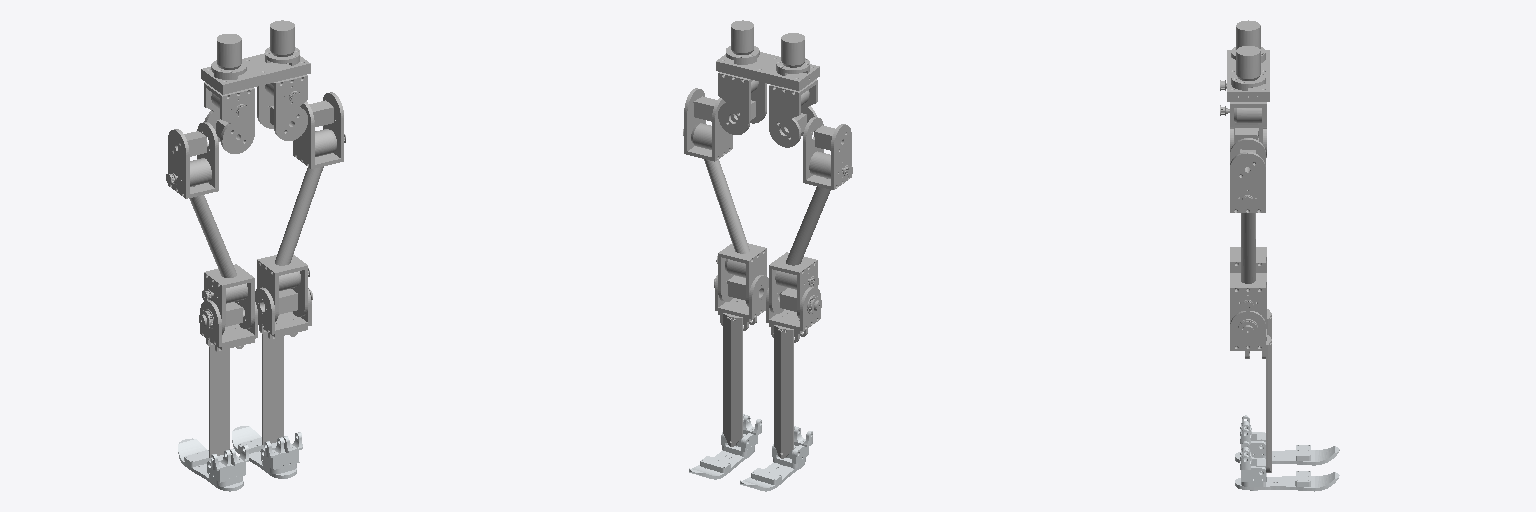
URDF robot description (huron_description_3):
<?xml version="1.0" encoding="utf-8"?>
<!-- This URDF was automatically created by SolidWorks to URDF Exporter! Originally created by [author] ([email redacted]) 
     Commit Version: 1.6.0-4-g7f85cfe  Build Version: 1.6.7995.38578
     For more information, please see http://wiki.ros.org/sw_urdf_exporter -->
<robot
  name="huron_description_3">

  <gazebo>
    <self_collide>1</self_collide>
  </gazebo>

  <link name="base_footprint" />
  <link
    name="base_link">
    <inertial>
      <origin
        xyz="4.7319E-09 5.4338E-07 0.026975"
        rpy="0 0 0" />
      <mass
        value="3.4072" />
      <inertia
        ixx="0.00319"
        ixy="7.149E-11"
        ixz="6.0313E-11"
        iyy="0.010531"
        iyz="6.926E-09"
        izz="0.012315" />
    </inertial>
    <visual>
      <origin
        xyz="0 0 0"
        rpy="0 0 0" />
      <geometry>
        <mesh
          filename="package://huron_description_3/meshes/base_link.STL" />
      </geometry>
      <material
        name="">
        <color
          rgba="0.75294 0.75294 0.75294 1" />
      </material>
    </visual>
    <collision>
      <origin
        xyz="0 0 0"
        rpy="0 0 0" />
      <geometry>
        <mesh
          filename="package://huron_description_3/meshes/base_link.STL" />
      </geometry>
    </collision>
  </link>
  <joint name="base_joint" type="fixed">
    <parent link="base_footprint"/>
    <child link="base_link"/>
    <!-- <origin xyz="0.0 0.0 0.0" rpy="0 0 0"/> -->
    <origin xyz="0.0 0.0 1.3" rpy="0 0 0"/>
  </joint>
  <link
    name="left_upper_thigh">
    <inertial>
      <origin
        xyz="0.00063027 0.00053867 0.081628"
        rpy="0 0 0" />
      <mass
        value="1.6968" />
      <inertia
        ixx="0.0022702"
        ixy="-2.5443E-06"
        ixz="-6.6462E-06"
        iyy="0.0026746"
        iyz="-4.6965E-08"
        izz="0.001238" />
    </inertial>
    <visual>
      <origin
        xyz="0 0 0"
        rpy="0 0 0" />
      <geometry>
        <mesh
          filename="package://huron_description_3/meshes/left_upper_thigh.STL" />
      </geometry>
      <material
        name="">
        <color
          rgba="0.75294 0.75294 0.75294 1" />
      </material>
    </visual>
    <collision>
      <origin
        xyz="0 0 0"
        rpy="0 0 0" />
      <geometry>
        <mesh
          filename="package://huron_description_3/meshes/left_upper_thigh.STL" />
      </geometry>
    </collision>
  </link>
  <joint
    name="hip_2_left_upper_thigh"
    type="revolute">
    <origin
      xyz="-0.0775 0 0"
      rpy="3.1416 0 0" />
    <parent
      link="base_link" />
    <child
      link="left_upper_thigh" />
    <axis
      xyz="0 0 1" />
    <limit
      lower="-3.14159"
      upper="3.14159"
      effort="0"
      velocity="0" />
  </joint>
  <link
    name="left_middle_thigh">
    <inertial>
      <origin
        xyz="-0.071962 -0.0061153 -6.8323E-05"
        rpy="0 0 0" />
      <mass
        value="1.1884" />
      <inertia
        ixx="0.00098222"
        ixy="-9.8651E-08"
        ixz="-3.7349E-07"
        iyy="0.00097045"
        iyz="9.7904E-08"
        izz="0.00092365" />
    </inertial>
    <visual>
      <origin
        xyz="0 0 0"
        rpy="0 0 0" />
      <geometry>
        <mesh
          filename="package://huron_description_3/meshes/left_middle_thigh.STL" />
      </geometry>
      <material
        name="">
        <color
          rgba="0.75294 0.75294 0.75294 1" />
      </material>
    </visual>
    <collision>
      <origin
        xyz="0 0 0"
        rpy="0 0 0" />
      <geometry>
        <mesh
          filename="package://huron_description_3/meshes/left_middle_thigh.STL" />
      </geometry>
    </collision>
  </link>
  <joint
    name="left_thigh_roll"
    type="revolute">
    <origin
      xyz="0 0 0.14512"
      rpy="1.5708 0 0" />
    <parent
      link="left_upper_thigh" />
    <child
      link="left_middle_thigh" />
    <axis
      xyz="-0.0062919 0 -0.99998" />
    <limit
      lower="-3.14159"
      upper="3.14159"
      effort="0"
      velocity="0" />
  </joint>
  <link
    name="left_lower_thigh">
    <inertial>
      <origin
        xyz="-0.26603 -0.00028821 -0.053151"
        rpy="0 0 0" />
      <mass
        value="4.2544" />
      <inertia
        ixx="0.0034527"
        ixy="1.2487E-05"
        ixz="0.0019796"
        iyy="0.010032"
        iyz="3.6402E-07"
        izz="0.01009" />
    </inertial>
    <visual>
      <origin
        xyz="0 0 0"
        rpy="0 0 0" />
      <geometry>
        <mesh
          filename="package://huron_description_3/meshes/left_lower_thigh.STL" />
      </geometry>
      <material
        name="">
        <color
          rgba="0.75294 0.75294 0.75294 1" />
      </material>
    </visual>
    <collision>
      <origin
        xyz="0 0 0"
        rpy="0 0 0" />
      <geometry>
        <mesh
          filename="package://huron_description_3/meshes/left_lower_thigh.STL" />
      </geometry>
    </collision>
  </link>
  <joint
    name="left_thigh_pitch"
    type="revolute">
    <origin
      xyz="0 0 0"
      rpy="-1.5708 0 -1.5708" />
    <parent
      link="left_middle_thigh" />
    <child
      link="left_lower_thigh" />
    <axis
      xyz="0 0.0062919 0.99998" />
    <limit
      lower="-3.14159"
      upper="3.14159"
      effort="0"
      velocity="0" />
  </joint>
  <link
    name="left_shin">
    <inertial>
      <origin
        xyz="-0.11465 -0.02006 0.00081884"
        rpy="0 0 0" />
      <mass
        value="1.6058" />
      <inertia
        ixx="0.0011647"
        ixy="-5.0624E-06"
        ixz="-2.9504E-10"
        iyy="0.0075438"
        iyz="-2.6087E-11"
        izz="0.0077351" />
    </inertial>
    <visual>
      <origin
        xyz="0 0 0"
        rpy="0 0 0" />
      <geometry>
        <mesh
          filename="package://huron_description_3/meshes/left_shin.STL" />
      </geometry>
      <material
        name="">
        <color
          rgba="0.75294 0.75294 0.75294 1" />
      </material>
    </visual>
    <collision>
      <origin
        xyz="0 0 0"
        rpy="0 0 0" />
      <geometry>
        <mesh
          filename="package://huron_description_3/meshes/left_shin.STL" />
      </geometry>
    </collision>
  </link>
  <joint
    name="left_knee"
    type="revolute">
    <origin
      xyz="-0.51128 4.9894E-05 -1.6979E-05"
      rpy="-0.0062919 0 0" />
    <parent
      link="left_lower_thigh" />
    <child
      link="left_shin" />
    <axis
      xyz="0 0 1" />
    <limit
      lower="-3.14159"
      upper="3.14159"
      effort="0"
      velocity="0" />
  </joint>
  <link
    name="left_ankle_roll_link">
    <inertial>
      <origin
        xyz="-1.236E-05 5.5727E-07 0.0002779"
        rpy="0 0 0" />
      <mass
        value="0.081641" />
      <inertia
        ixx="2.0993E-05"
        ixy="-5.1227E-07"
        ixz="-2.8075E-10"
        iyy="1.0351E-05"
        iyz="4.0729E-12"
        izz="2.2395E-05" />
    </inertial>
    <visual>
      <origin
        xyz="0 0 0"
        rpy="0 0 0" />
      <geometry>
        <mesh
          filename="package://huron_description_3/meshes/left_ankle_roll_link.STL" />
      </geometry>
      <material
        name="">
        <color
          rgba="0.89804 0.91765 0.92941 1" />
      </material>
    </visual>
    <collision>
      <origin
        xyz="0 0 0"
        rpy="0 0 0" />
      <geometry>
        <mesh
          filename="package://huron_description_3/meshes/left_ankle_roll_link.STL" />
      </geometry>
    </collision>
  </link>
  <joint
    name="left_ankle_roll"
    type="revolute">
    <origin
      xyz="-0.425 -0.0345 0"
      rpy="1.5708 0 0" />
    <parent
      link="left_shin" />
    <child
      link="left_ankle_roll_link" />
    <axis
      xyz="0 0 1" />
    <limit
      lower="-3.14159"
      upper="3.14159"
      effort="0"
      velocity="0" />
  </joint>
  <link
    name="left_foot">
    <inertial>
      <origin
        xyz="-0.027041 -0.034311 0.00083257"
        rpy="0 0 0" />
      <mass
        value="2.6907" />
      <inertia
        ixx="0.0080929"
        ixy="0.00024558"
        ixz="-5.8611E-05"
        iyy="0.0012877"
        iyz="0.0001125"
        izz="0.0070808" />
    </inertial>
    <visual>
      <origin
        xyz="0 0 0"
        rpy="0 0 0" />
      <geometry>
        <mesh
          filename="package://huron_description_3/meshes/left_foot.STL" />
      </geometry>
      <material
        name="">
        <color
          rgba="0.89804 0.91765 0.92941 1" />
      </material>
    </visual>
    <collision>
      <origin
        xyz="0 0 0"
        rpy="0 0 0" />
      <geometry>
        <mesh
          filename="package://huron_description_3/meshes/left_foot.STL" />
      </geometry>
    </collision>
  </link>
  <joint
    name="left_ankle_pitch"
    type="revolute">
    <origin
      xyz="0 0 0"
      rpy="-1.5708 0 0" />
    <parent
      link="left_ankle_roll_link" />
    <child
      link="left_foot" />
    <axis
      xyz="-0.047968 0 -0.99885" />
    <limit
      lower="-3.14159"
      upper="3.14159"
      effort="0"
      velocity="0" />
  </joint>
  <link
    name="right_upper_thigh">
    <inertial>
      <origin
        xyz="-0.00063014 0.00051325 0.081619"
        rpy="0 0 0" />
      <mass
        value="1.6968" />
      <inertia
        ixx="0.0022729"
        ixy="-4.4685E-06"
        ixz="6.646E-06"
        iyy="0.0026746"
        iyz="6.8245E-08"
        izz="0.0012354" />
    </inertial>
    <visual>
      <origin
        xyz="0 0 0"
        rpy="0 0 0" />
      <geometry>
        <mesh
          filename="package://huron_description_3/meshes/right_upper_thigh.STL" />
      </geometry>
      <material
        name="">
        <color
          rgba="0.75294 0.75294 0.75294 1" />
      </material>
    </visual>
    <collision>
      <origin
        xyz="0 0 0"
        rpy="0 0 0" />
      <geometry>
        <mesh
          filename="package://huron_description_3/meshes/right_upper_thigh.STL" />
      </geometry>
    </collision>
  </link>
  <joint
    name="hip_2_right_upper_thigh"
    type="revolute">
    <origin
      xyz="0.0775 0 0"
      rpy="-3.1416 0 0" />
    <parent
      link="base_link" />
    <child
      link="right_upper_thigh" />
    <axis
      xyz="0 0 1" />
    <limit
      lower="-3.1416"
      upper="3.1416"
      effort="0"
      velocity="0" />
  </joint>
  <link
    name="right_middle_thigh">
    <inertial>
      <origin
        xyz="0.07195 -0.0061152 -0.0013261"
        rpy="0 0 0" />
      <mass
        value="1.1884" />
      <inertia
        ixx="0.00098222"
        ixy="9.7857E-08"
        ixz="-6.6074E-07"
        iyy="0.00097045"
        iyz="-9.8509E-08"
        izz="0.00092366" />
    </inertial>
    <visual>
      <origin
        xyz="0 0 0"
        rpy="0 0 0" />
      <geometry>
        <mesh
          filename="package://huron_description_3/meshes/right_middle_thigh.STL" />
      </geometry>
      <material
        name="">
        <color
          rgba="0.75294 0.75294 0.75294 1" />
      </material>
    </visual>
    <collision>
      <origin
        xyz="0 0 0"
        rpy="0 0 0" />
      <geometry>
        <mesh
          filename="package://huron_description_3/meshes/right_middle_thigh.STL" />
      </geometry>
    </collision>
  </link>
  <joint
    name="right_thigh_roll"
    type="revolute">
    <origin
      xyz="0 0 0.14512"
      rpy="1.5708 0 0" />
    <parent
      link="right_upper_thigh" />
    <child
      link="right_middle_thigh" />
    <axis
      xyz="-0.011124 0 -0.99994" />
    <limit
      lower="-3.1416"
      upper="3.1416"
      effort="0"
      velocity="0" />
  </joint>
  <link
    name="right_lower_thigh">
    <inertial>
      <origin
        xyz="-0.26753 4.9957E-05 0.053132"
        rpy="0 0 0" />
      <mass
        value="4.2544" />
      <inertia
        ixx="0.0034501"
        ixy="2.7561E-09"
        ixz="-0.0019797"
        iyy="0.010035"
        iyz="-2.5263E-10"
        izz="0.01009" />
    </inertial>
    <visual>
      <origin
        xyz="0 0 0"
        rpy="0 0 0" />
      <geometry>
        <mesh
          filename="package://huron_description_3/meshes/right_lower_thigh.STL" />
      </geometry>
      <material
        name="">
        <color
          rgba="0.75294 0.75294 0.75294 1" />
      </material>
    </visual>
    <collision>
      <origin
        xyz="0 0 0"
        rpy="0 0 0" />
      <geometry>
        <mesh
          filename="package://huron_description_3/meshes/right_lower_thigh.STL" />
      </geometry>
    </collision>
  </link>
  <joint
    name="right_thigh_pitch"
    type="revolute">
    <origin
      xyz="0 0 0"
      rpy="-1.5819 0 -1.5708" />
    <parent
      link="right_middle_thigh" />
    <child
      link="right_lower_thigh" />
    <axis
      xyz="0 0 -1" />
    <limit
      lower="-3.14159"
      upper="3.14159"
      effort="0"
      velocity="0" />
  </joint>
  <link
    name="right_shin">
    <inertial>
      <origin
        xyz="-0.11465 -0.02006 -0.00081885"
        rpy="0 0 0" />
      <mass
        value="1.6058" />
      <inertia
        ixx="0.0011647"
        ixy="-5.0624E-06"
        ixz="-6.4474E-10"
        iyy="0.0075438"
        iyz="-2.5922E-11"
        izz="0.0077351" />
    </inertial>
    <visual>
      <origin
        xyz="0 0 0"
        rpy="0 0 0" />
      <geometry>
        <mesh
          filename="package://huron_description_3/meshes/right_shin.STL" />
      </geometry>
      <material
        name="">
        <color
          rgba="0.75294 0.75294 0.75294 1" />
      </material>
    </visual>
    <collision>
      <origin
        xyz="0 0 0"
        rpy="0 0 0" />
      <geometry>
        <mesh
          filename="package://huron_description_3/meshes/right_shin.STL" />
      </geometry>
    </collision>
  </link>
  <joint
    name="right_knee"
    type="revolute">
    <origin
      xyz="-0.51278 5E-05 1.6665E-05"
      rpy="0 0 0" />
    <parent
      link="right_lower_thigh" />
    <child
      link="right_shin" />
    <axis
      xyz="0 0 -1" />
    <limit
      lower="-3.14159"
      upper="3.14159"
      effort="0"
      velocity="0" />
  </joint>
  <link
    name="right_ankle_roll_link">
    <inertial>
      <origin
        xyz="-1.236E-05 5.5727E-07 0.0002779"
        rpy="0 0 0" />
      <mass
        value="0.081641" />
      <inertia
        ixx="2.0993E-05"
        ixy="-5.1227E-07"
        ixz="-2.8075E-10"
        iyy="1.0351E-05"
        iyz="4.0729E-12"
        izz="2.2395E-05" />
    </inertial>
    <visual>
      <origin
        xyz="0 0 0"
        rpy="0 0 0" />
      <geometry>
        <mesh
          filename="package://huron_description_3/meshes/right_ankle_roll_link.STL" />
      </geometry>
      <material
        name="">
        <color
          rgba="0.89804 0.91765 0.92941 1" />
      </material>
    </visual>
    <collision>
      <origin
        xyz="0 0 0"
        rpy="0 0 0" />
      <geometry>
        <mesh
          filename="package://huron_description_3/meshes/right_ankle_roll_link.STL" />
      </geometry>
    </collision>
  </link>
  <joint
    name="right_ankle_roll"
    type="revolute">
    <origin
      xyz="-0.425 -0.0345 0"
      rpy="1.5708 0 0" />
    <parent
      link="right_shin" />
    <child
      link="right_ankle_roll_link" />
    <axis
      xyz="0 0 1" />
    <limit
      lower="-3.14159"
      upper="3.14159"
      effort="0"
      velocity="0" />
  </joint>
  <link
    name="right_foot">
    <inertial>
      <origin
        xyz="-0.027041 -0.034311 0.00083258"
        rpy="0 0 0" />
      <mass
        value="2.6907" />
      <inertia
        ixx="0.0080929"
        ixy="0.00024558"
        ixz="-5.8611E-05"
        iyy="0.0012877"
        iyz="0.0001125"
        izz="0.0070808" />
    </inertial>
    <visual>
      <origin
        xyz="0 0 0"
        rpy="0 0 0" />
      <geometry>
        <mesh
          filename="package://huron_description_3/meshes/right_foot.STL" />
      </geometry>
      <material
        name="">
        <color
          rgba="0.89804 0.91765 0.92941 1" />
      </material>
    </visual>
    <collision>
      <origin
        xyz="0 0 0"
        rpy="0 0 0" />
      <geometry>
        <mesh
          filename="package://huron_description_3/meshes/right_foot.STL" />
      </geometry>
    </collision>
  </link>
  <joint
    name="right_ankle_pitch"
    type="revolute">
    <origin
      xyz="0 0 0"
      rpy="-1.5708 0 0" />
    <parent
      link="right_ankle_roll_link" />
    <child
      link="right_foot" />
    <axis
      xyz="-0.047968 0 -0.99885" />
    <limit
      lower="-3.14159"
      upper="3.14159"
      effort="0"
      velocity="0" />
  </joint>
</robot>

--- Render facts (derived) ---
3 views of the same robot in one strip: view 1: azimuth 30°, elevation 25°; view 2: azimuth 150°, elevation 25°; view 3: azimuth 270°, elevation 25° (orthographic).
Robot: huron_description_3 — 14 links, 13 joints (12 revolute, 1 fixed); root link base_footprint; default pose: all joints at 0.
Links seen in each view (by area): view 1: left_lower_thigh, right_lower_thigh, base_link, right_shin, left_shin, left_upper_thigh, right_upper_thigh, left_foot, right_foot; view 2: left_lower_thigh, right_lower_thigh, base_link, right_shin, left_shin, right_upper_thigh, left_upper_thigh, right_foot, left_foot; view 3: right_lower_thigh, base_link, right_foot, right_shin, left_foot, right_upper_thigh, left_lower_thigh.
Boxes of the visible links, x1,y1,x2,y2 form: left_lower_thigh: (166, 122, 254, 334); right_lower_thigh: (257, 92, 345, 321); base_link: (201, 20, 310, 94); right_shin: (255, 287, 311, 444); left_shin: (200, 300, 257, 457); left_upper_thigh: (204, 82, 254, 153); right_upper_thigh: (257, 75, 307, 140); left_foot: (178, 438, 248, 491); right_foot: (232, 426, 302, 478); left_lower_thigh: (769, 117, 852, 318); right_lower_thigh: (683, 88, 766, 306); base_link: (716, 20, 819, 90); right_shin: (715, 275, 768, 446); left_shin: (766, 286, 820, 458); right_upper_thigh: (718, 72, 766, 134); left_upper_thigh: (769, 79, 817, 147); right_foot: (689, 414, 761, 479); left_foot: (740, 426, 812, 491); right_lower_thigh: (1230, 138, 1266, 338); base_link: (1227, 20, 1269, 101); right_foot: (1235, 441, 1339, 491); right_shin: (1230, 311, 1271, 472); left_foot: (1235, 415, 1339, 465); right_upper_thigh: (1220, 102, 1266, 157); left_lower_thigh: (1230, 108, 1266, 272).
Bounding box of the posed robot: 0.5068 × 0.3088 × 1.25 m (x, y, z).
Meshes: 13 distinct files referenced, 11 mesh visuals loaded (11 binary STL); not drawn: 2 (reference not matched to a file when rendering).